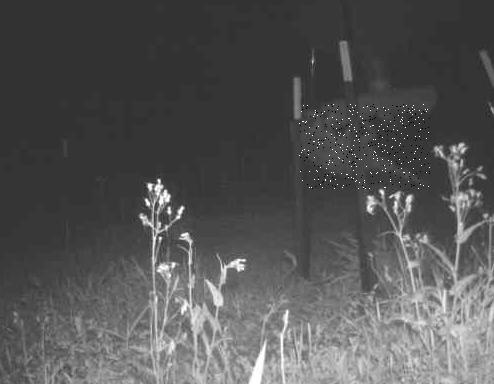Raccoon: (299, 104, 430, 189)
